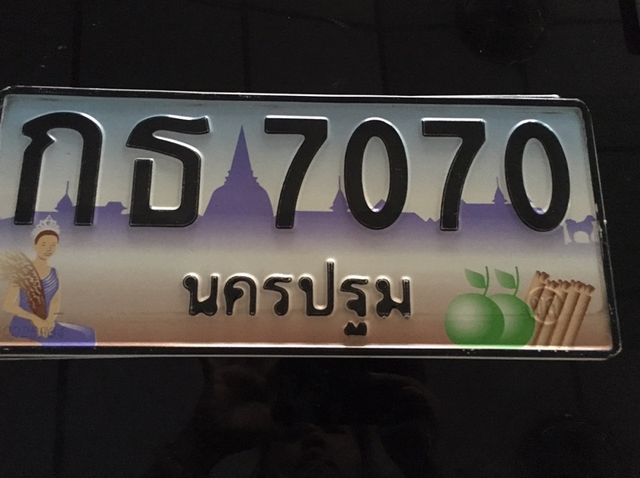Non-Bangkok: (164, 240, 425, 343)
